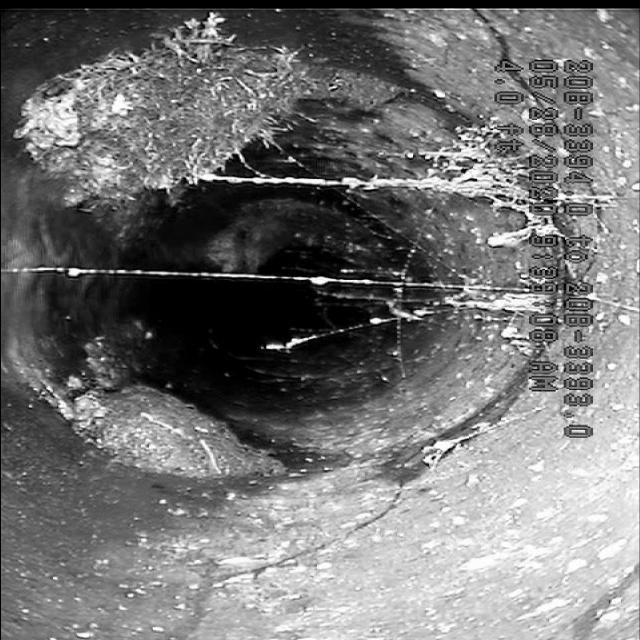Fracture: (175, 448, 487, 604)
